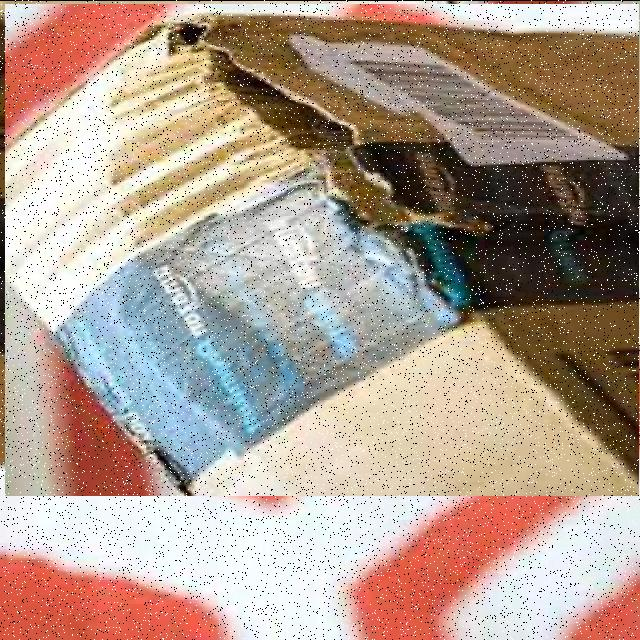defect: (4, 3, 638, 495)
